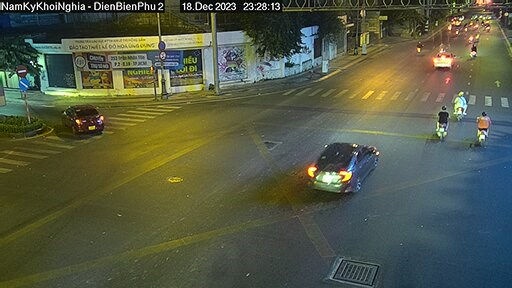car: (298, 131, 383, 195), (57, 103, 106, 137), (432, 49, 454, 71)
motorbike: (431, 102, 451, 137), (473, 110, 491, 146), (451, 85, 468, 122)
